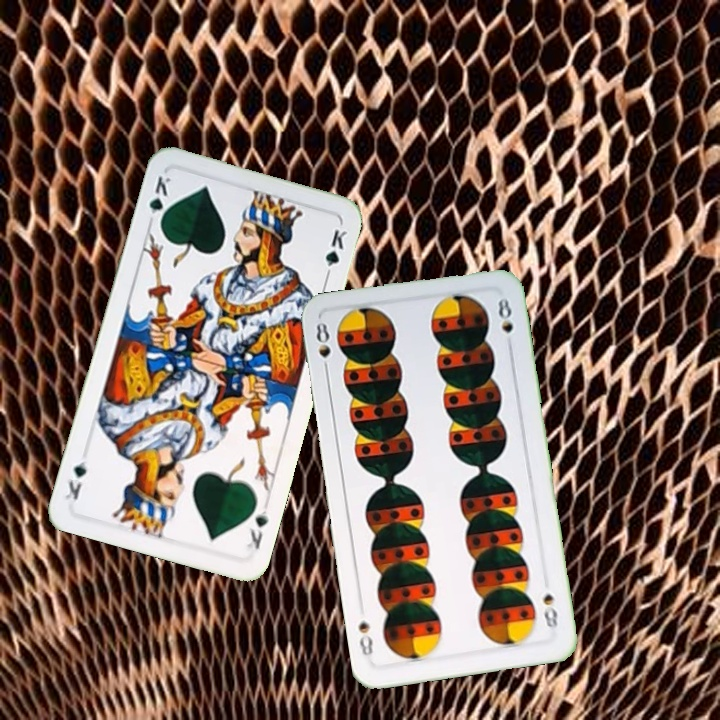GK: (145, 172, 173, 230), (242, 506, 271, 552)
S8: (312, 318, 333, 377), (539, 589, 560, 632)
